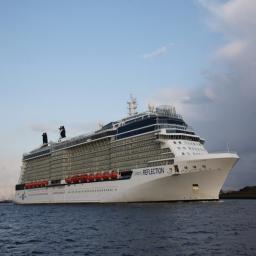cruises: (10, 94, 242, 210)
